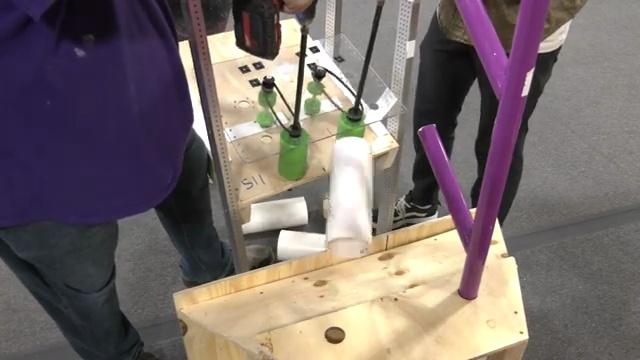CORAL: (326, 137, 370, 251), (241, 197, 309, 234), (278, 230, 326, 260)
